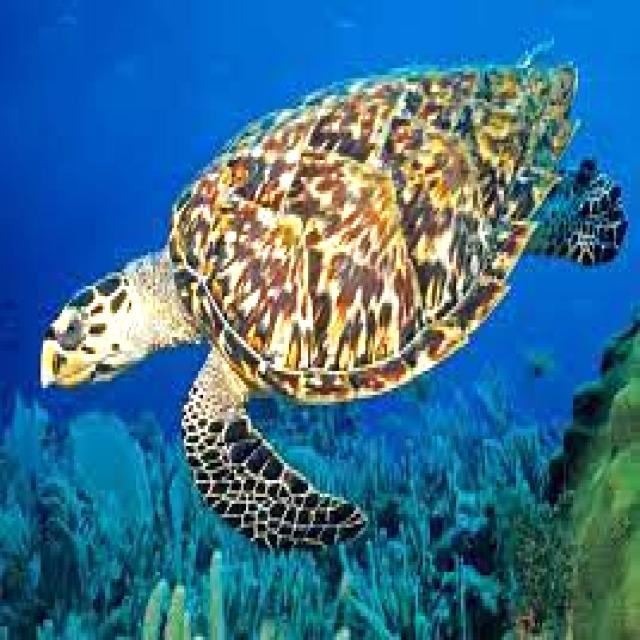Sea turtle: (42, 56, 630, 536)
